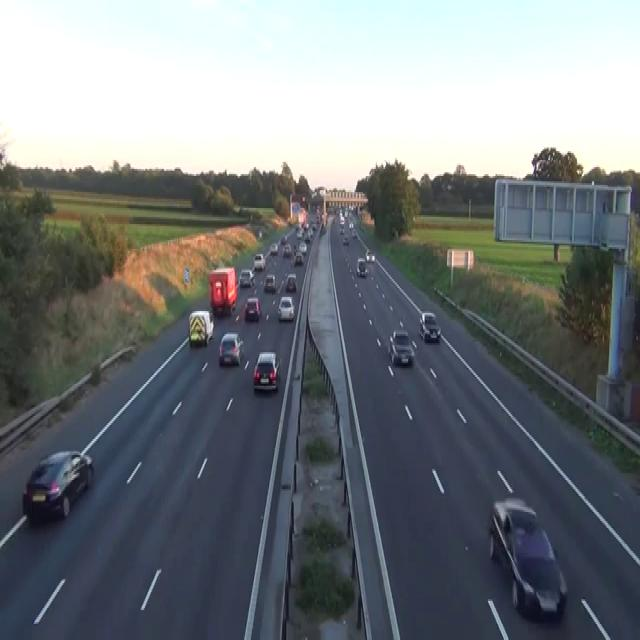Car: (488, 496, 567, 620), (22, 448, 94, 523), (253, 350, 280, 391), (389, 329, 416, 366), (188, 309, 214, 347), (218, 331, 243, 366), (418, 311, 441, 341), (277, 295, 294, 320), (245, 297, 261, 322), (238, 268, 254, 286), (356, 256, 368, 277), (285, 272, 297, 292), (253, 252, 265, 270), (263, 274, 275, 292), (365, 249, 375, 263), (282, 244, 291, 258), (298, 240, 307, 254), (294, 251, 303, 265), (304, 228, 313, 242), (269, 242, 278, 254), (249, 268, 255, 284), (319, 222, 326, 235), (287, 215, 295, 226), (342, 233, 349, 243), (280, 233, 287, 243), (348, 220, 354, 230), (303, 220, 309, 230), (292, 242, 297, 254), (296, 228, 303, 236), (311, 222, 317, 231), (339, 215, 344, 224), (339, 224, 344, 233), (351, 230, 357, 237), (258, 230, 262, 238)
Truck: (208, 266, 237, 314)
